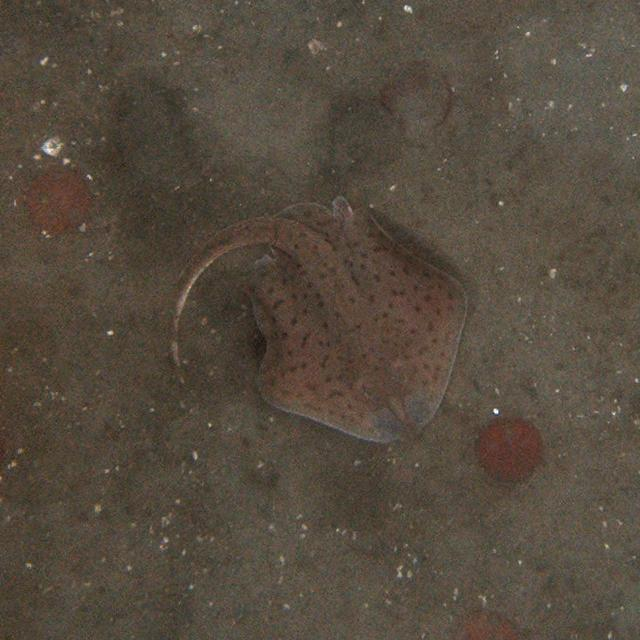skate: (157, 181, 471, 446)
